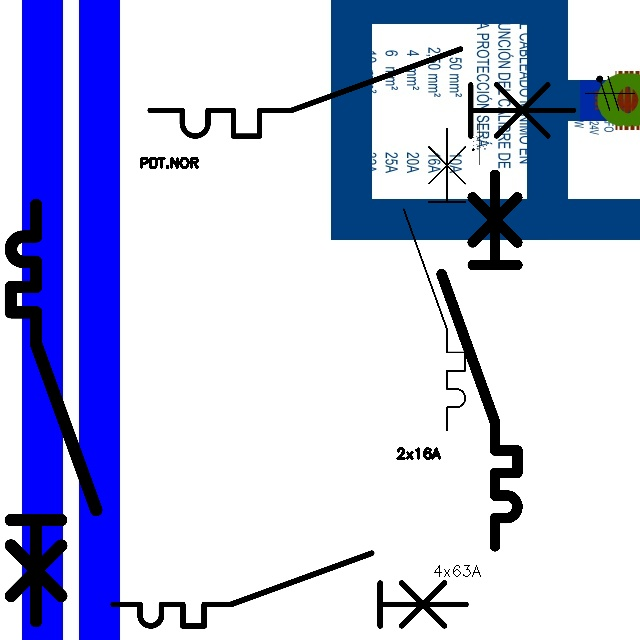interruptor_termomagnetico: (139, 38, 584, 147), (0, 194, 107, 632), (432, 165, 527, 555), (104, 544, 475, 635), (396, 121, 473, 438)
